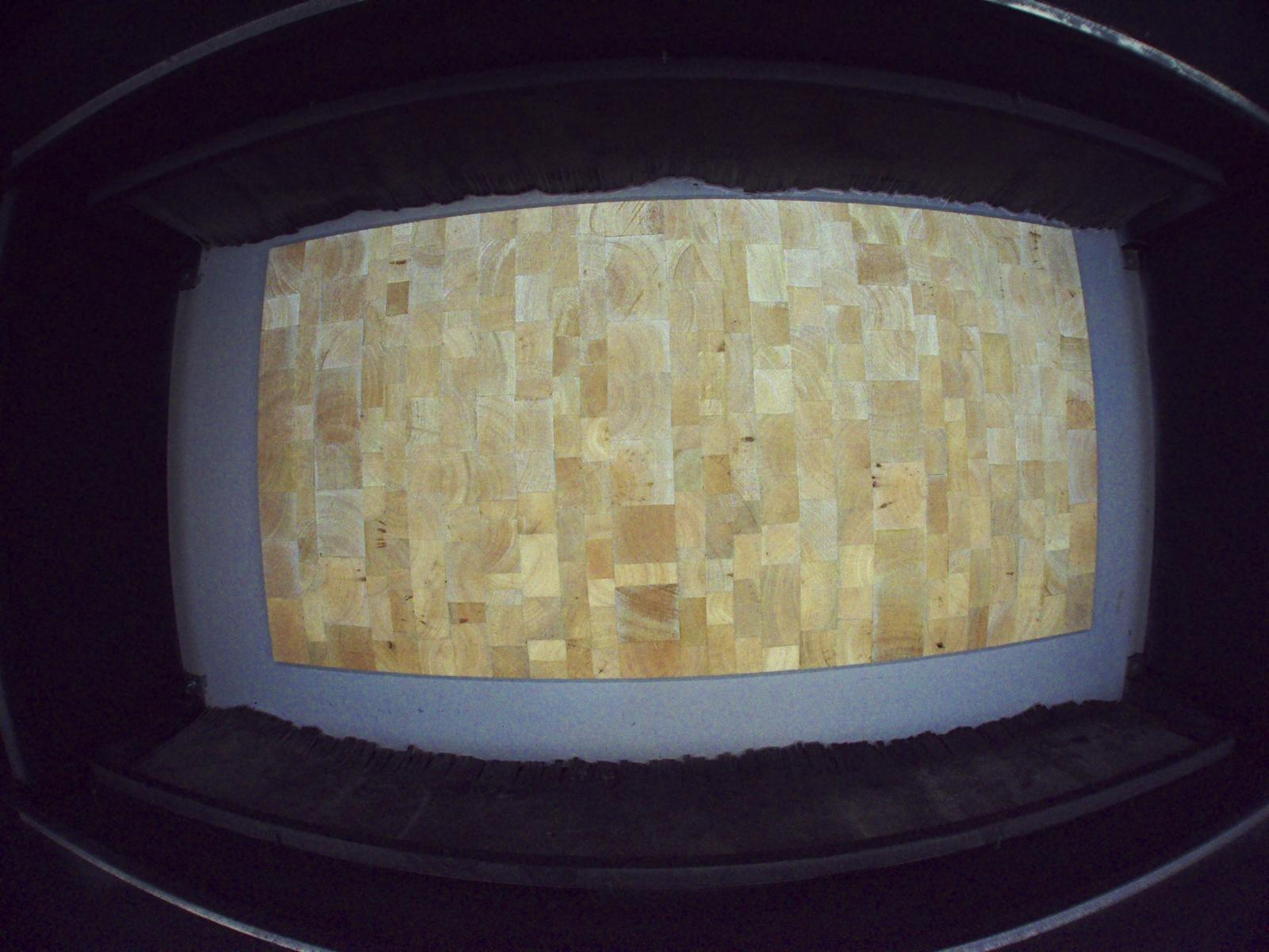sheck_ecuatoriano: (927, 621, 946, 649)
